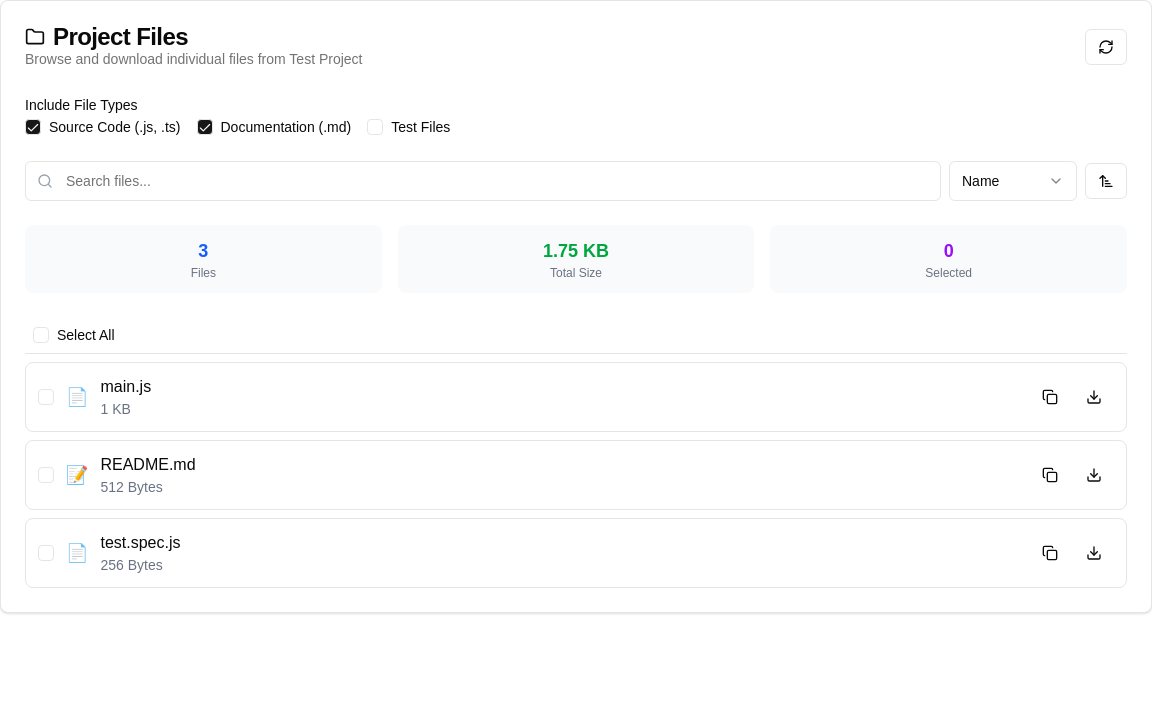
Test: IndividualFileBrowser › filters files based on search term
Expected: the text "main.js" is shown, [100, 378, 151, 395]
Type "main" into the field with placeholder "Search files...".
click(483, 181); type("main")  # box [25, 161, 941, 201]
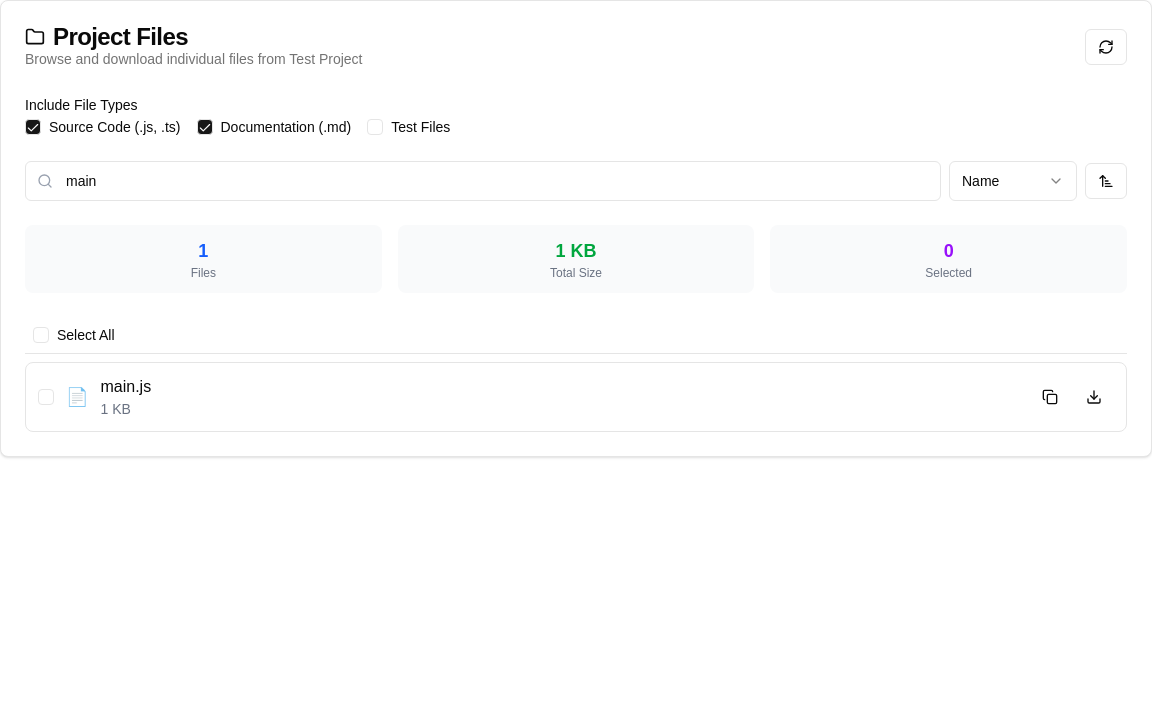
Expected: the text "main.js" is shown, [100, 378, 151, 395]
Now the text "README.md" is gone
